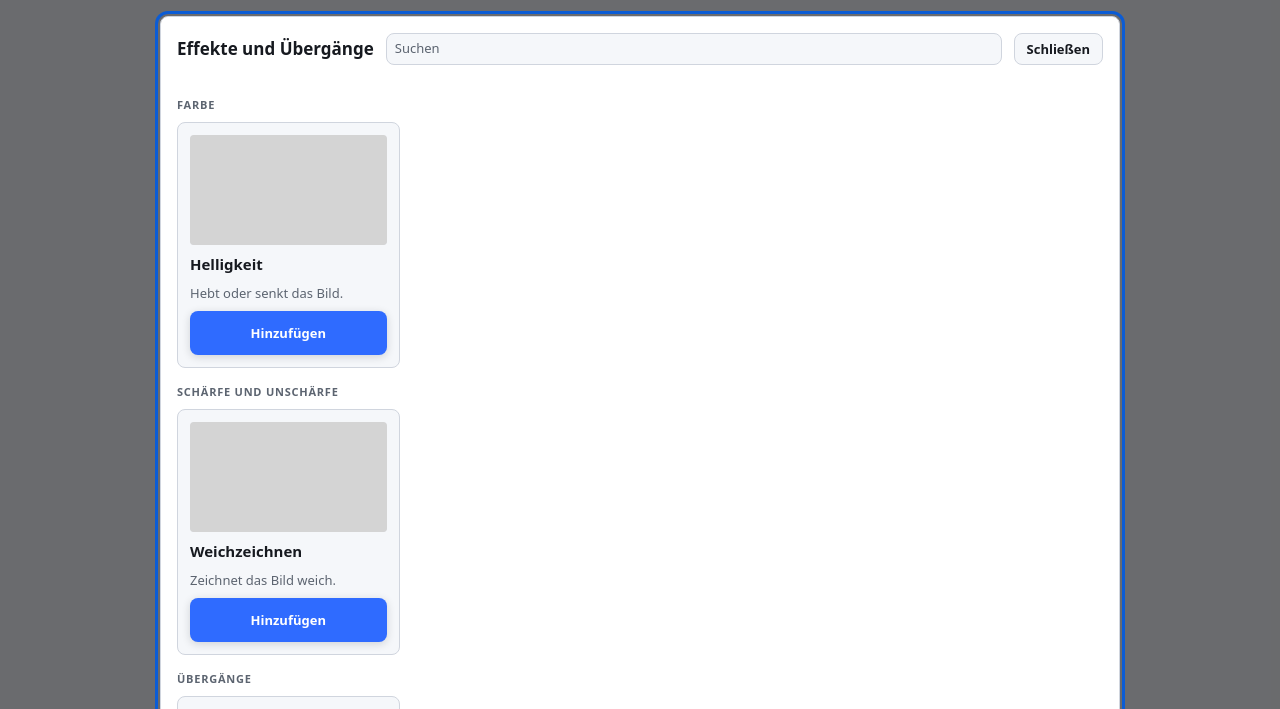
EffectBrowser › says so when nothing matches, and names what was typed
In the search field labelled "Suchen": (694, 49) [386, 33, 1002, 65], type "zzz"
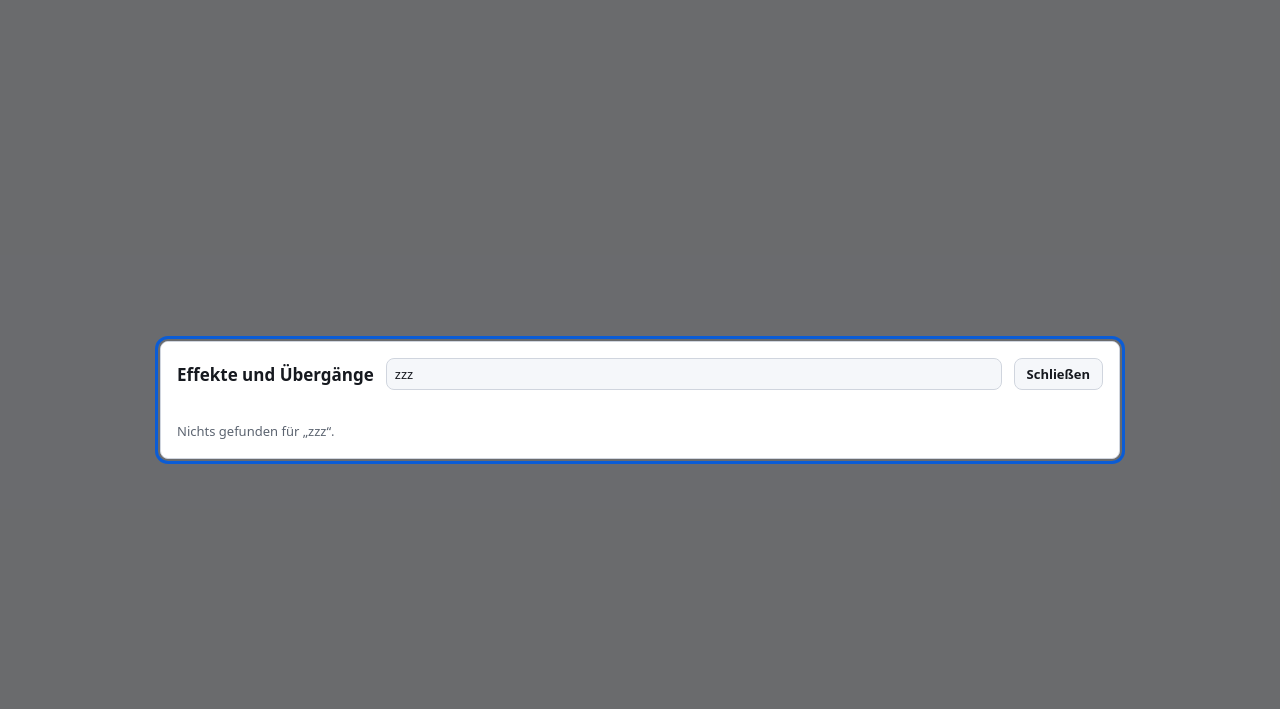
Check: the text "Nichts gefunden für „zzz“." is shown, box [177, 422, 335, 440]
